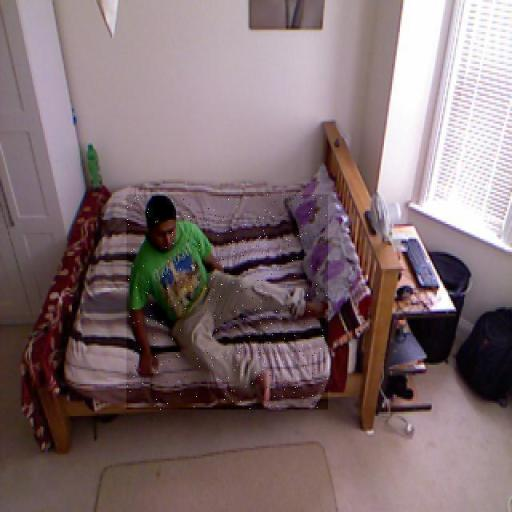Fall: (126, 195, 328, 410)
